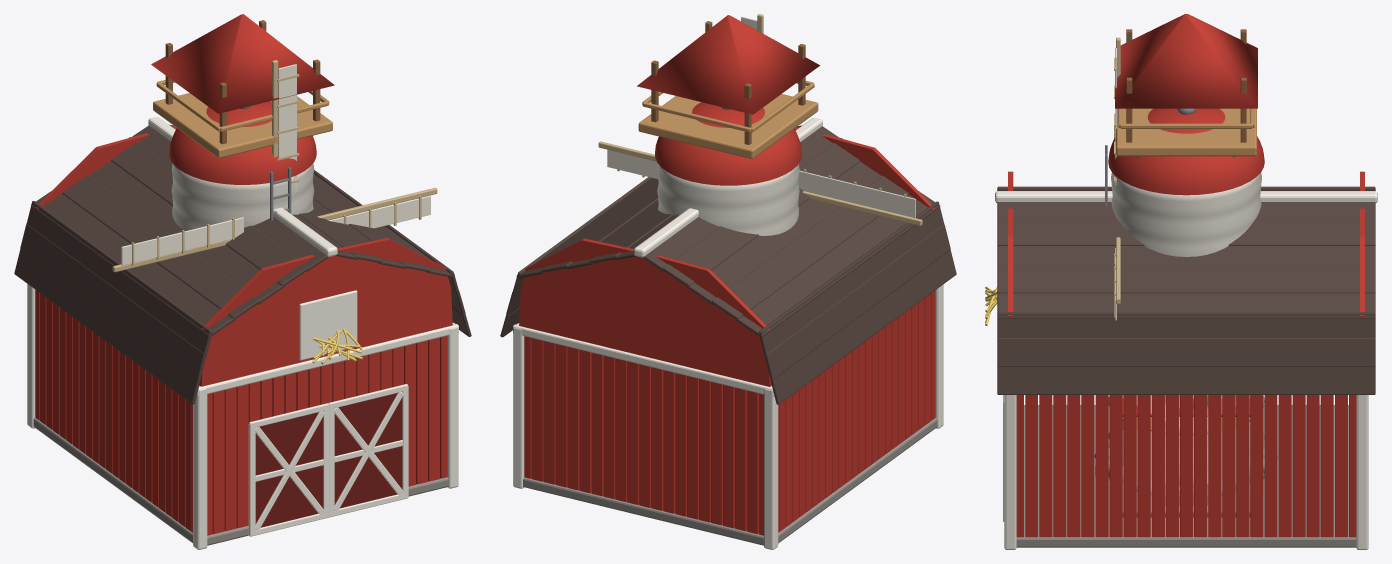
The model's file is miljo.glb.
3 renders of one model, left to right at view 1: azimuth 30°, elevation 25°; view 2: azimuth 150°, elevation 25°; view 3: azimuth 270°, elevation 25°, orthographic. The views are drawn at different scales.
Visible parts, largest first — view 1: laave, taarn, silo, vinge; view 2: laave, taarn, silo, vinge; view 3: laave, taarn, silo, drivhus, vinge, honsehus.
Part boxes in pixels (bbox=[...]): laave: bbox=[14, 117, 471, 549]; taarn: bbox=[151, 14, 334, 158]; silo: bbox=[169, 101, 316, 230]; vinge: bbox=[112, 60, 437, 272]; laave: bbox=[500, 117, 956, 549]; taarn: bbox=[637, 15, 819, 158]; silo: bbox=[655, 102, 801, 235]; vinge: bbox=[598, 14, 922, 225]; laave: bbox=[985, 171, 1377, 549]; taarn: bbox=[1115, 14, 1257, 157]; silo: bbox=[1094, 108, 1278, 495]; drivhus: bbox=[1122, 395, 1250, 517]; vinge: bbox=[1114, 37, 1120, 320]; honsehus: bbox=[1095, 395, 1250, 491].
Size of the model in its own units: 9 by 11.82 by 8.93.
